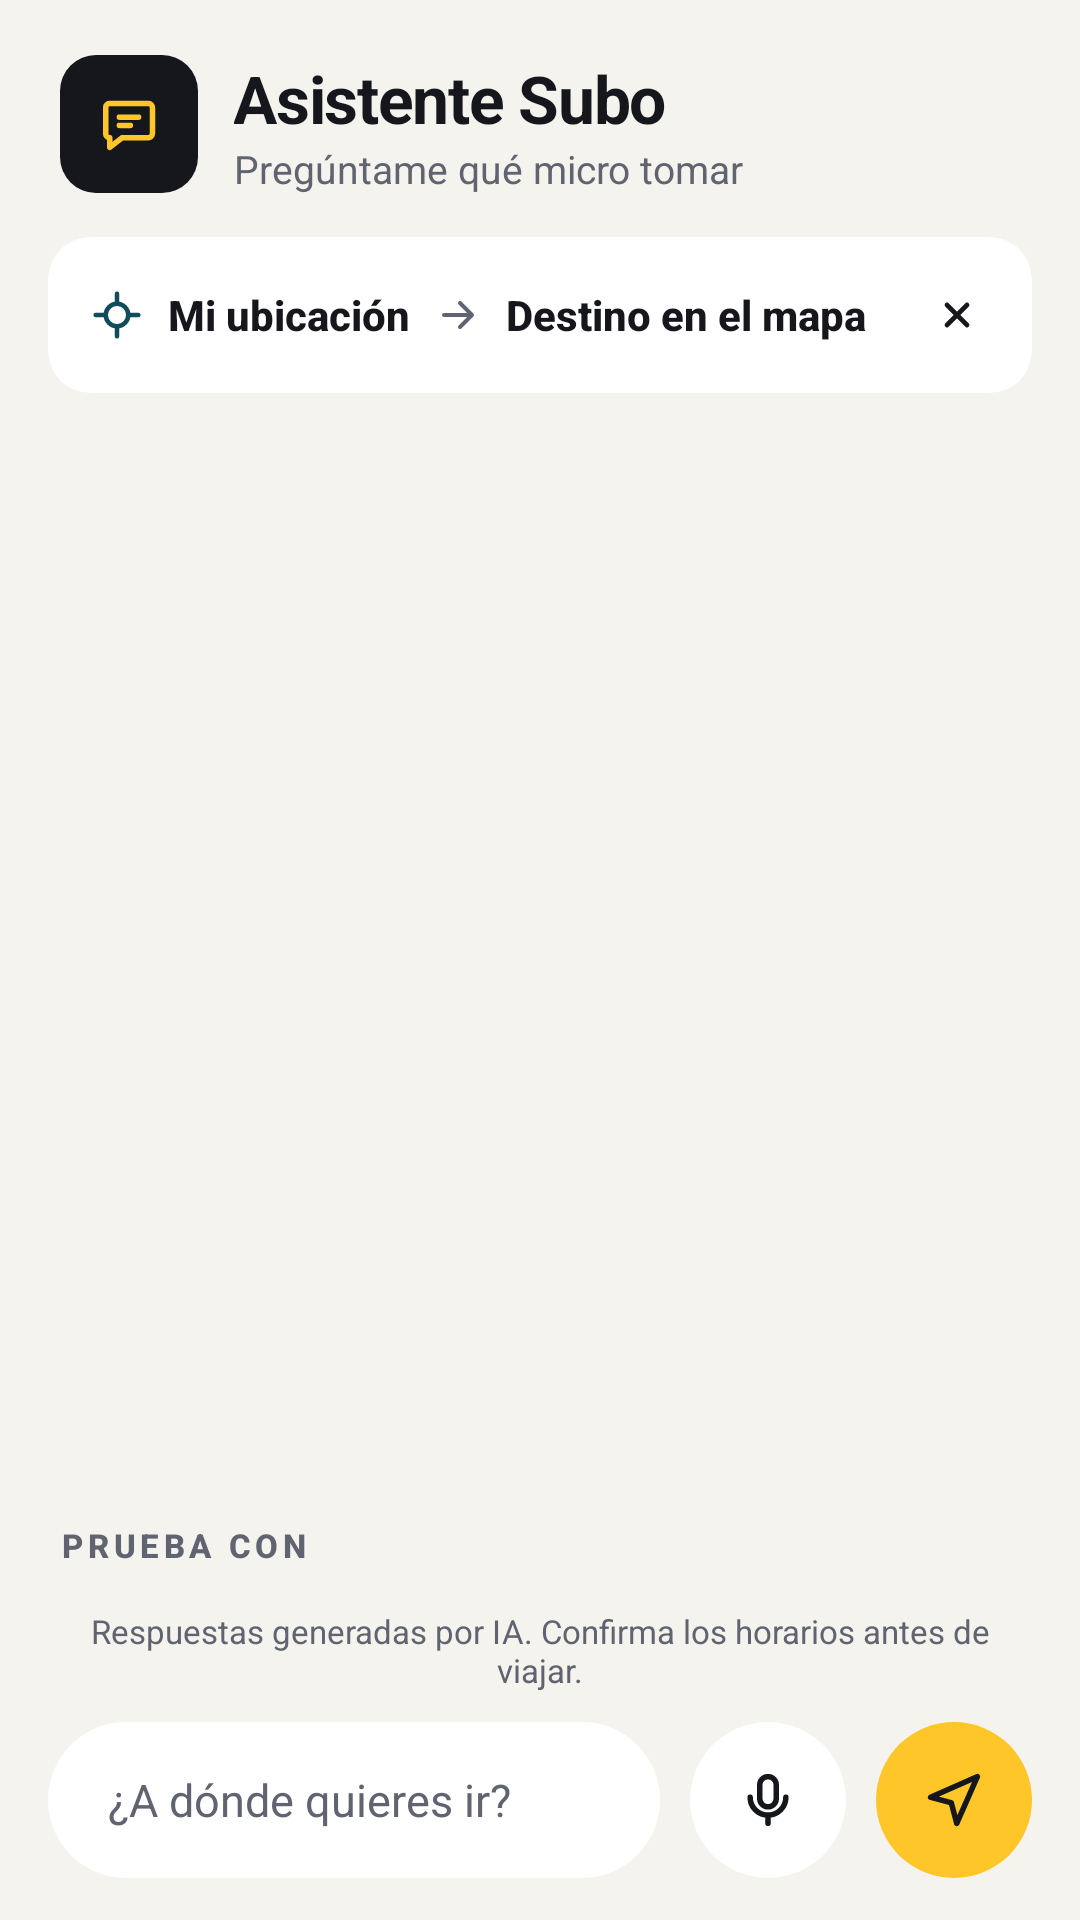

Named icons in this screenshot (1080w x 1920h) and their centers, point (x, y):
alertas arrow: point (458, 315)
alertas chat: point (129, 124)
alertas crosshair: point (117, 315)
Cerrar: point (957, 315)
Enviar: point (954, 1800)
Preguntar hablando: point (768, 1800)
